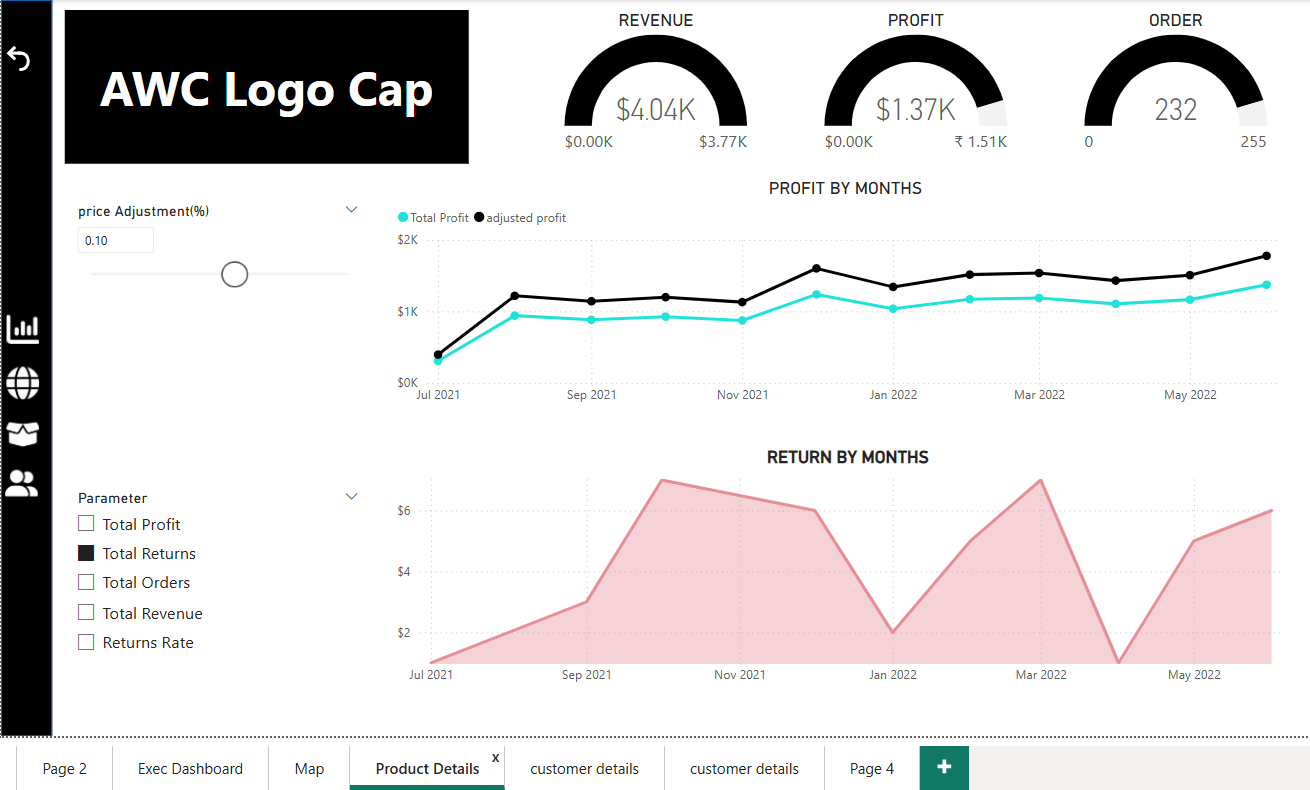

Layout of this report page (visuals, bound fields, positions):
{"tool":"powerbi","page":{"name":"Product Details","canvas":[1280,720],"ordinal":4},"visuals":[{"type":"gauge","title":"REVENUE","fields":{"Y":["Measure.Total Revenue"],"MaxValue":["Measure.Revenue Target"]},"box":[520.8,10.1,239.5,150],"z":0},{"type":"gauge","title":"ORDER","fields":{"Y":["Measure.Total Orders"],"MaxValue":["Measure.Target Orders"]},"box":[1030.1,10.1,239.5,150],"z":1000},{"type":"gauge","title":"PROFIT","fields":{"Y":["Measure.Total Profit"],"MaxValue":["Measure.Profit Target"]},"box":[775.5,10.1,239.5,150],"z":2000},{"type":"lineChart","title":"PROFIT BY MONTHS","fields":{"Y":["Measure.Total Profit","Measure.adjusted profit"],"Category":["Calendar Lookup.Start of Month"]},"box":[382.7,173.6,886.6,231.1],"z":3000},{"type":"areaChart","title":"RETURN BY MONTHS","fields":{"Y":["Measure.Total Returns"],"Category":["Calendar Lookup.Start of Month"]},"box":[382.7,436.6,891.4,242.1],"z":4000},{"type":"textbox","box":[62.4,9.8,203,150.4],"z":5000},{"type":"card","fields":{"Values":["Min(Product Lookup.ProductName)"]},"box":[62.4,9.8,395,150.4],"z":6000},{"type":"actionButton","box":[0,0,100,40],"z":7000},{"type":"shape","box":[0,0,50.1,720.2],"z":8000},{"type":"actionButton","box":[1.2,302,50.1,40.4],"z":9000},{"type":"actionButton","box":[1.2,404.8,50.1,40.4],"z":10000},{"type":"actionButton","box":[1.2,354.6,50.1,40.4],"z":11000},{"type":"actionButton","box":[0,452.4,50.1,40.4],"z":12000},{"type":"actionButton","box":[0,36.7,34.2,40.4],"z":13000},{"type":"slicer","fields":{"Values":["price Adjustment(%).price Adjustment(%)"]},"box":[62.4,193.2,299.6,223.8],"z":14000},{"type":"slicer","fields":{"Values":["Parameter.Parameter"]},"box":[62.4,473.2,299.6,227.4],"z":15000}]}

Visuals, with their boxes on the page's 1280x720 design canvas (x1, y1, x2, y2). These are canvas units, not pixel positions in the 1310x790 screenshot, which may show the page scaled, cropped or inside an application window:
"REVENUE" gauge: left=521, top=10, right=760, bottom=160
"ORDER" gauge: left=1030, top=10, right=1270, bottom=160
"PROFIT" gauge: left=776, top=10, right=1015, bottom=160
"PROFIT BY MONTHS" lineChart: left=383, top=174, right=1269, bottom=405
"RETURN BY MONTHS" areaChart: left=383, top=437, right=1274, bottom=679
textbox: left=62, top=10, right=265, bottom=160
card - Min(Product Lookup.ProductName): left=62, top=10, right=457, bottom=160
actionButton: left=0, top=0, right=100, bottom=40
shape: left=0, top=0, right=50, bottom=720
actionButton: left=1, top=302, right=51, bottom=342
actionButton: left=1, top=405, right=51, bottom=445
actionButton: left=1, top=355, right=51, bottom=395
actionButton: left=0, top=452, right=50, bottom=493
actionButton: left=0, top=37, right=34, bottom=77
slicer - price Adjustment(%).price Adjustment(%): left=62, top=193, right=362, bottom=417
slicer - Parameter.Parameter: left=62, top=473, right=362, bottom=701
